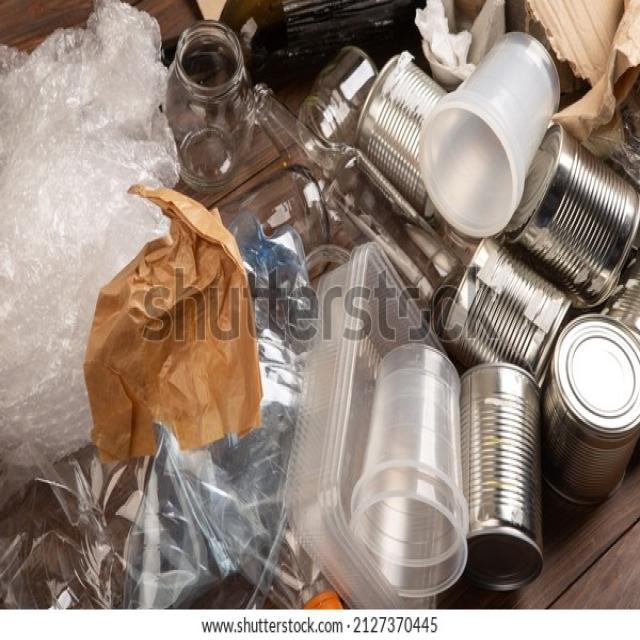metal: (556, 326, 628, 482), (474, 370, 534, 549), (550, 152, 623, 276), (477, 256, 535, 355), (376, 73, 422, 195)
paper: (125, 265, 248, 436)
plastic: (330, 308, 442, 567)
